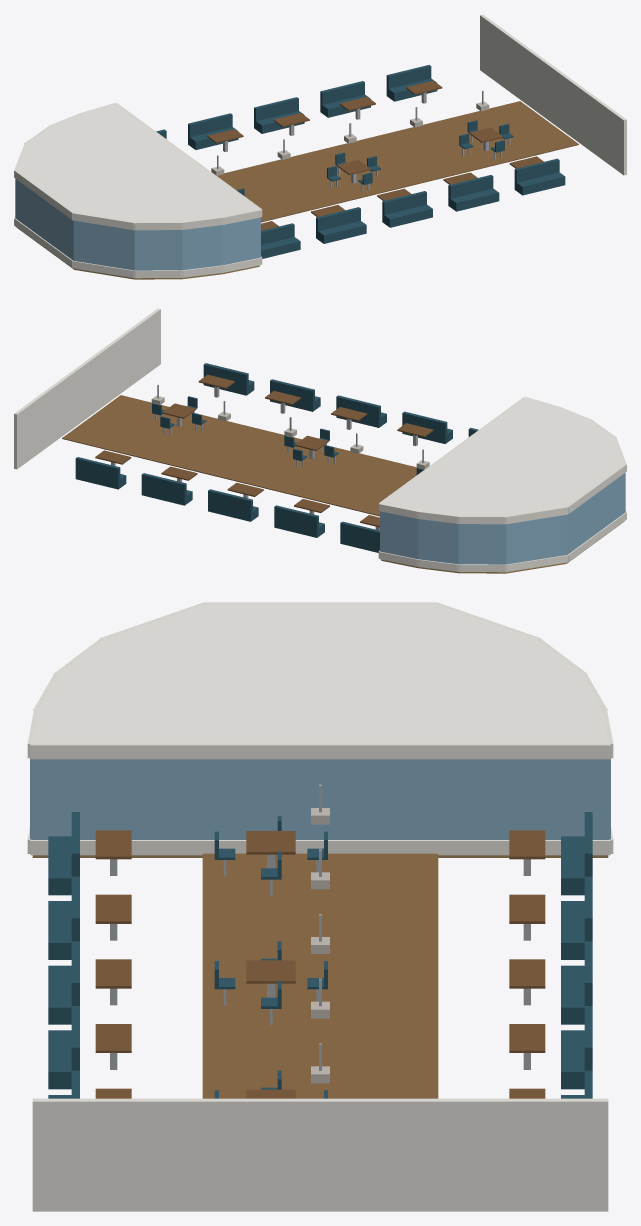
The model's file is room_restaurant.glb.
3 views of the same model, one above another, from view 1: azimuth 30°, elevation 25°; view 2: azimuth 150°, elevation 25°; view 3: azimuth 270°, elevation 25° (orthographic). The views are drawn at different scales.
Parts seen in each view (by area): view 1: room_restaurant (×9); view 2: room_restaurant (×9); view 3: room_restaurant (×8).
Part boxes in pixels (<box>): room_restaurant (×9): <box>14,14,626,279</box>; room_restaurant (×9): <box>14,308,626,573</box>; room_restaurant (×8): <box>27,602,613,1211</box>.
Bounding box in the file's own units: 26.28 × 2.82 × 13.03.
